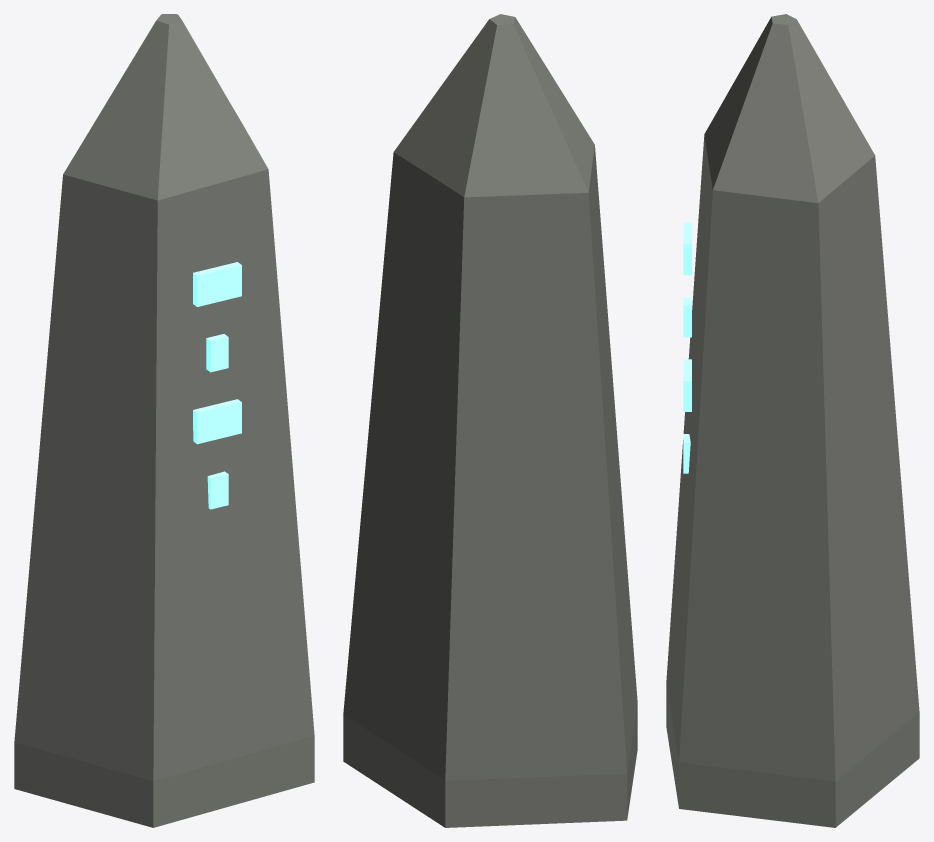
File: SM_RUI_PROP_001_RuneMonolith.glb
The picture shows the model from 3 angles, left to right: view 1: azimuth 30°, elevation 25°; view 2: azimuth 150°, elevation 25°; view 3: azimuth 270°, elevation 25°; orthographic projection.
Parts seen in each view (by area): view 1: SM_RUI_PROP_001_RuneMonolith; view 2: SM_RUI_PROP_001_RuneMonolith; view 3: SM_RUI_PROP_001_RuneMonolith.
Boxes of the visible parts, x1=… form: SM_RUI_PROP_001_RuneMonolith: x1=14, y1=14, x2=314, y2=827; SM_RUI_PROP_001_RuneMonolith: x1=343, y1=14, x2=637, y2=827; SM_RUI_PROP_001_RuneMonolith: x1=666, y1=14, x2=919, y2=827.
Bounding box in the file's own units: 0.9102 × 2.4 × 0.7398.
